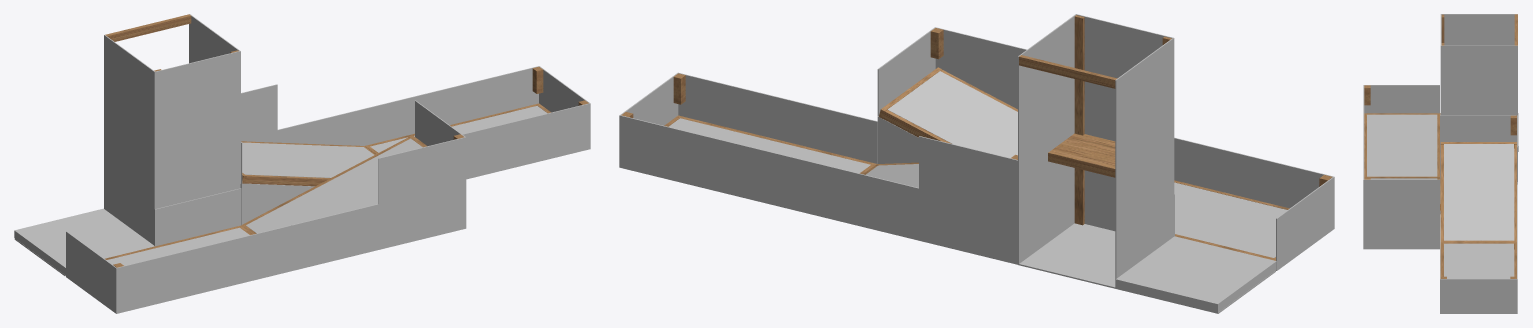
Rendered from TER0_texture.dae.
The picture shows the model from 3 angles, left to right: view 1: azimuth 30°, elevation 25°; view 2: azimuth 150°, elevation 25°; view 3: azimuth 270°, elevation 25°; orthographic projection. The views are drawn at different scales.
Visible parts, largest first — view 1: Programmiereck hoch 1, Programmiereck hoch 3, Längstwand lang 2 flach a, Längstwand lang 2 hoch, Längstwand lang 1 flach a, Längstwand lang 1 flach c, Sand Kies 2, Einstieg, Längstwand lang 2 flach b, Sand Kies 3, Längstwand lang 2 flach c, Abschlusswand Ende 2 (+11 smaller); view 2: Programmiereck hoch 3, Programmiereck hoch 2, Längstwand lang 1 flach a, Längstwand lang 1 hoch, Längstwand lang 1 flach c, Einstieg, Programmiereck hoch 1, Sand Kies 2, Längstwand lang 2 flach a, Sand Kies 1, Längstwand lang 1 flach b, Bodenplatte (+12 smaller); view 3: Sand Kies 3, Programmiereck hoch 2, Abschlusswand Mitte hoch 2, Sand Kies 1, Abschlusswand Ende 1, Sand Kies 4, Programmiereck hoch 3, Abschlusswand Ende 2, Abschlusswand Mitte hoch 1, Innenbalken lang 1 d, Innenbalken lang 1 c, Innenbalken kurz 1 c (+13 smaller).
Boxes of the visible parts, x1,y1,x2,y2 form: Programmiereck hoch 1: (154, 51, 240, 245); Programmiereck hoch 3: (104, 35, 155, 245); Längstwand lang 2 flach a: (117, 225, 291, 313); Längstwand lang 2 hoch: (378, 137, 465, 249); Längstwand lang 1 flach a: (365, 66, 538, 145); Längstwand lang 1 flach c: (462, 103, 590, 179); Sand Kies 2: (246, 138, 422, 233); Einstieg: (14, 208, 154, 275); Längstwand lang 2 flach b: (291, 204, 378, 271); Sand Kies 3: (242, 142, 373, 177); Längstwand lang 2 flach c: (154, 188, 241, 246); Abschlusswand Ende 2: (66, 231, 116, 313); Programmiereck hoch 3: (1115, 37, 1173, 288); Programmiereck hoch 2: (1018, 14, 1076, 265); Längstwand lang 1 flach a: (620, 115, 819, 216); Längstwand lang 1 hoch: (919, 136, 1017, 264); Längstwand lang 1 flach c: (678, 73, 877, 163); Einstieg: (1115, 236, 1276, 312); Programmiereck hoch 1: (1076, 14, 1174, 236); Sand Kies 2: (887, 71, 1017, 157); Längstwand lang 2 flach a: (1174, 137, 1333, 208); Sand Kies 1: (1174, 182, 1287, 257); Längstwand lang 1 flach b: (819, 164, 918, 240); Bodenplatte: (1019, 223, 1275, 313); Sand Kies 3: (1444, 144, 1513, 240); Programmiereck hoch 2: (1441, 45, 1517, 184); Abschlusswand Mitte hoch 2: (1363, 179, 1439, 249); Sand Kies 1: (1367, 114, 1437, 176); Abschlusswand Ende 1: (1440, 279, 1517, 313); Sand Kies 4: (1444, 243, 1513, 278); Programmiereck hoch 3: (1441, 14, 1517, 45); Abschlusswand Ende 2: (1363, 85, 1439, 113); Abschlusswand Mitte hoch 1: (1440, 115, 1516, 183); Innenbalken lang 1 d: (1440, 144, 1443, 242); Innenbalken lang 1 c: (1514, 144, 1516, 242); Innenbalken kurz 1 c: (1444, 240, 1514, 242).
Bounding box in the file's own units: 7.33 × 2.47 × 2.44.
